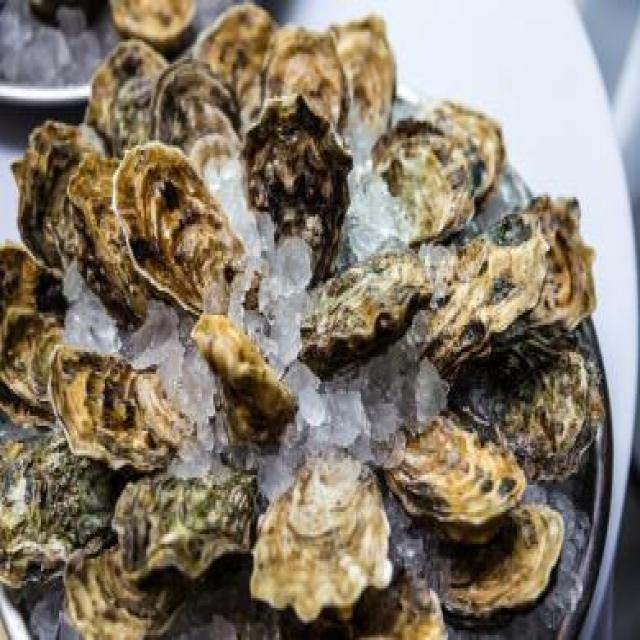Oyster- Indeterminate: (84, 124, 270, 343), (384, 196, 578, 391), (434, 320, 629, 509), (242, 454, 398, 627), (391, 495, 579, 630), (28, 341, 203, 486), (231, 93, 357, 290), (178, 296, 312, 473), (360, 101, 500, 249), (61, 27, 204, 169), (144, 57, 253, 241), (0, 432, 126, 585), (0, 116, 110, 276), (62, 150, 154, 333), (110, 469, 265, 574), (412, 86, 516, 212), (62, 551, 197, 640), (256, 24, 360, 133), (0, 244, 68, 410), (521, 194, 599, 333), (328, 15, 400, 148), (103, 0, 197, 46)
Oyster-Closed: (362, 394, 544, 562), (273, 237, 453, 389)
